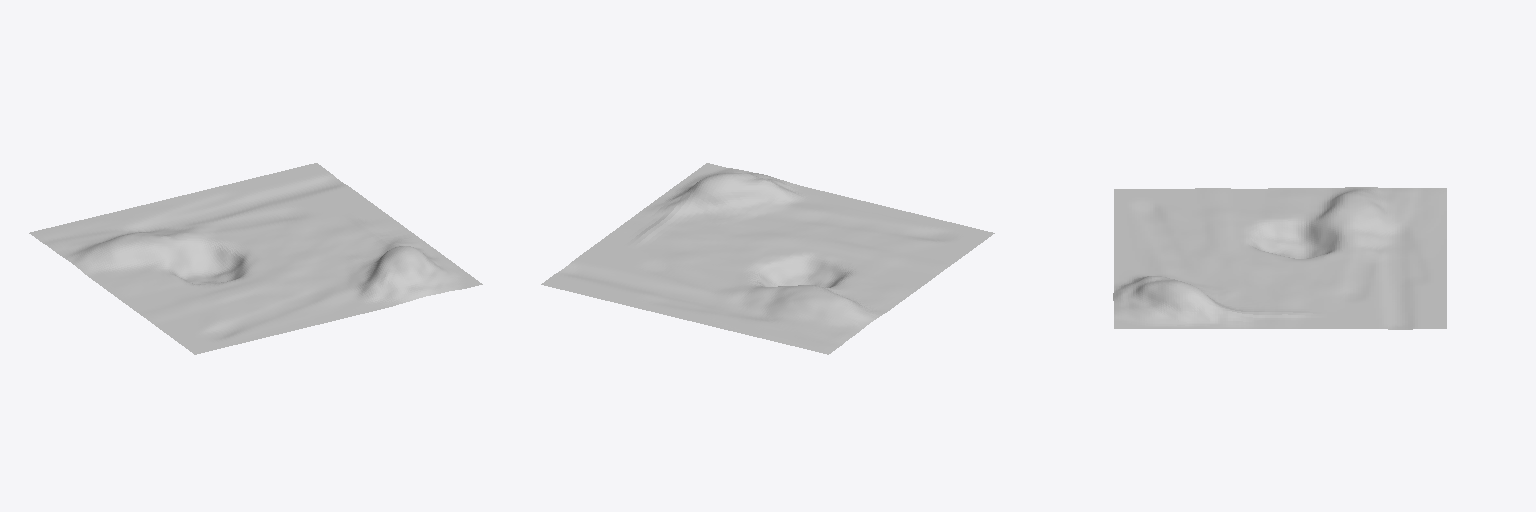
File: TerrainBIG.obj
3 renders of one model, left to right at view 1: azimuth 30°, elevation 25°; view 2: azimuth 150°, elevation 25°; view 3: azimuth 270°, elevation 25°, orthographic.
Parts seen in each view (by area): view 1: Mesh_Mesh_Plane; view 2: Mesh_Mesh_Plane; view 3: Mesh_Mesh_Plane.
Boxes of the visible parts, x1,y1,x2,y2 form: Mesh_Mesh_Plane: [29, 163, 482, 354]; Mesh_Mesh_Plane: [541, 163, 994, 354]; Mesh_Mesh_Plane: [1113, 187, 1446, 329].
Bounding box in the file's own units: 18982 × 2358 × 18998.